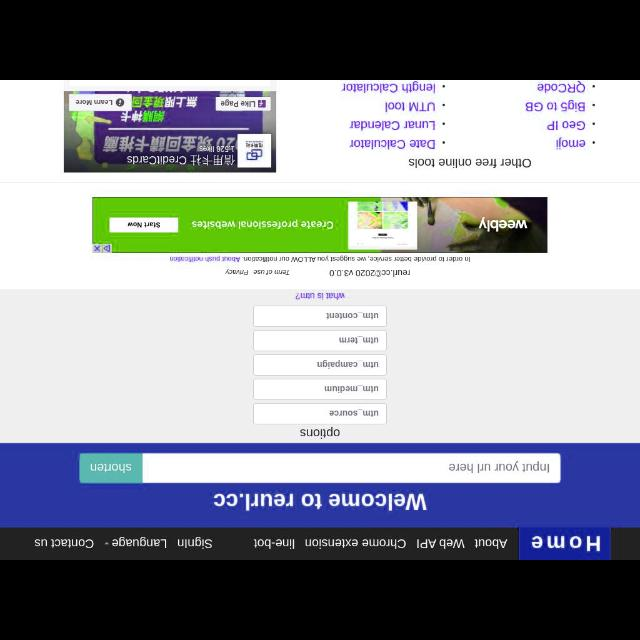icon: (104, 541, 110, 545)
iframe: (92, 196, 548, 254), (64, 91, 276, 170)
input: (143, 453, 561, 482), (254, 354, 386, 376), (254, 404, 386, 424), (254, 379, 386, 399), (254, 330, 386, 350), (254, 306, 386, 326)
spinner: (104, 537, 166, 549)
text: (213, 493, 427, 511), (170, 255, 470, 262), (409, 158, 531, 168), (341, 81, 435, 93), (532, 535, 600, 551), (449, 462, 549, 472), (349, 139, 435, 149), (349, 120, 435, 130), (526, 100, 584, 112), (112, 536, 166, 548), (34, 538, 94, 548), (317, 359, 379, 368), (538, 81, 584, 93), (304, 539, 358, 549), (225, 268, 289, 276), (385, 102, 435, 112), (417, 539, 465, 549), (300, 427, 340, 439), (330, 270, 410, 276), (362, 539, 406, 549), (324, 385, 378, 393), (326, 312, 378, 320), (253, 539, 294, 549), (178, 536, 212, 548), (90, 463, 130, 473), (546, 120, 586, 130), (329, 409, 378, 417), (296, 292, 344, 300), (474, 538, 508, 548), (556, 137, 584, 149), (339, 336, 378, 344)
textbutton: (80, 454, 142, 482)
toolbar: (2, 528, 640, 560)
